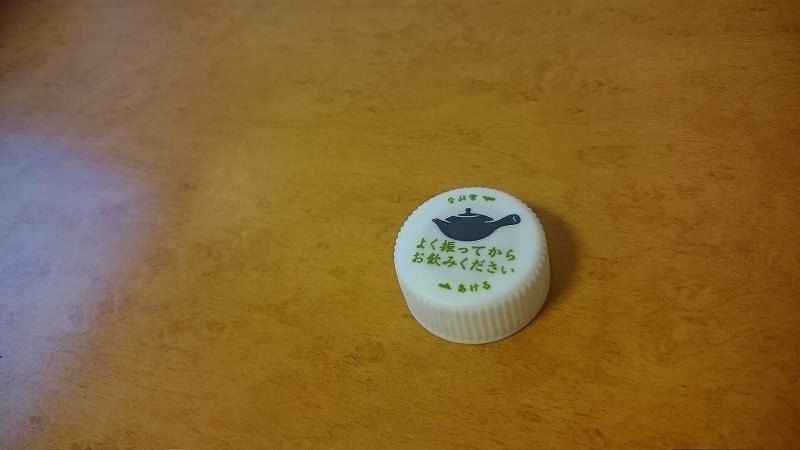A: (391, 182, 562, 349)
